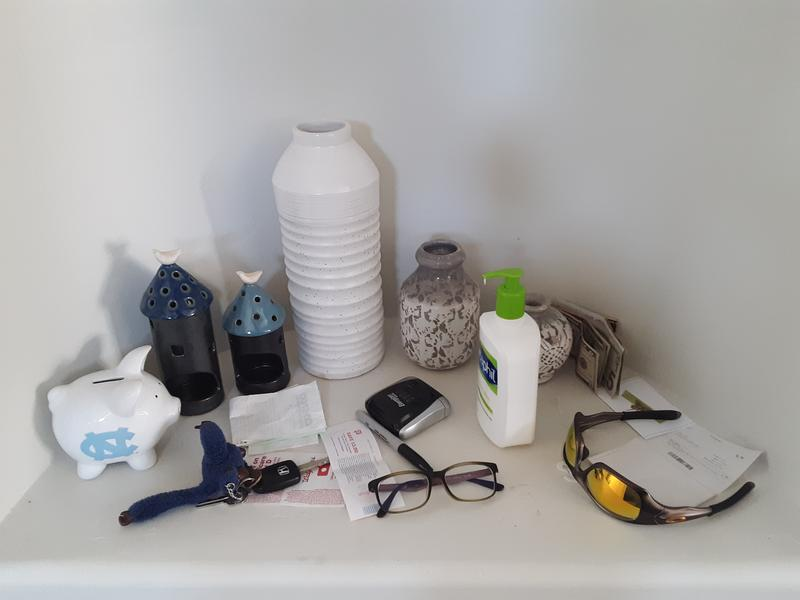glasses: (365, 461, 506, 519)
